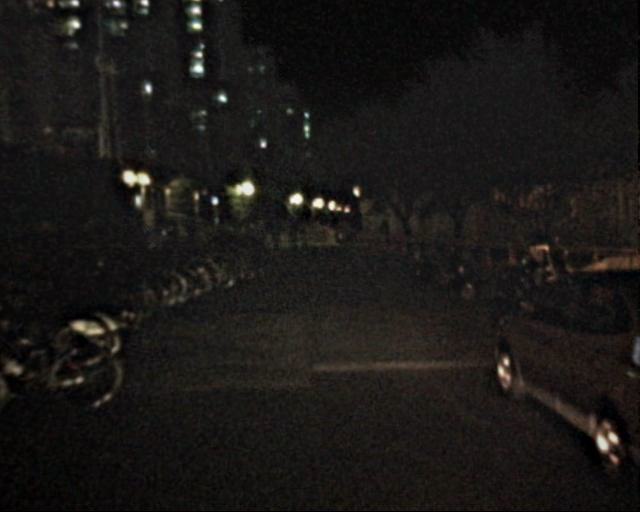person: (235, 219, 266, 243), (284, 214, 300, 252), (140, 222, 155, 259), (377, 220, 391, 255), (167, 218, 181, 252), (268, 219, 282, 252), (182, 221, 194, 250)
